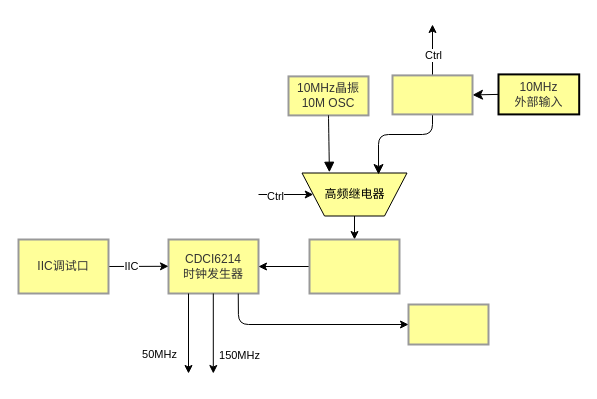
The diagram is 597 pixels wide and 399 high, and some of its shapes have lost their labels. The shapes that lost their labels are listed below. From the top down, each one's centre as x and y in pixels, then its label:
the point at 432,94: 时钟有效性 检测
the point at 354,266: 时钟缓冲器
the point at 448,324: 10MHz 参考输出
